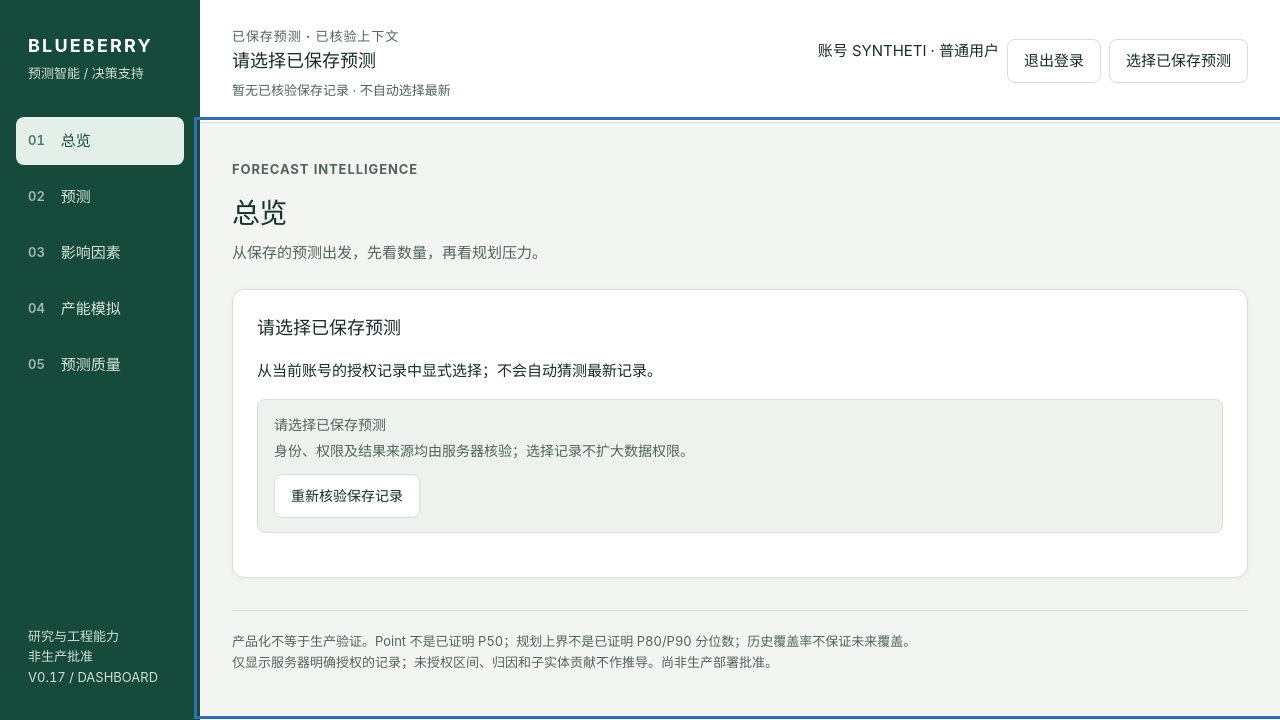
Test case: handoff projection mismatch never commits a record
Click the button "选择已保存预测" at (1178, 61), box [1109,39,1248,83]
(page scrolled)
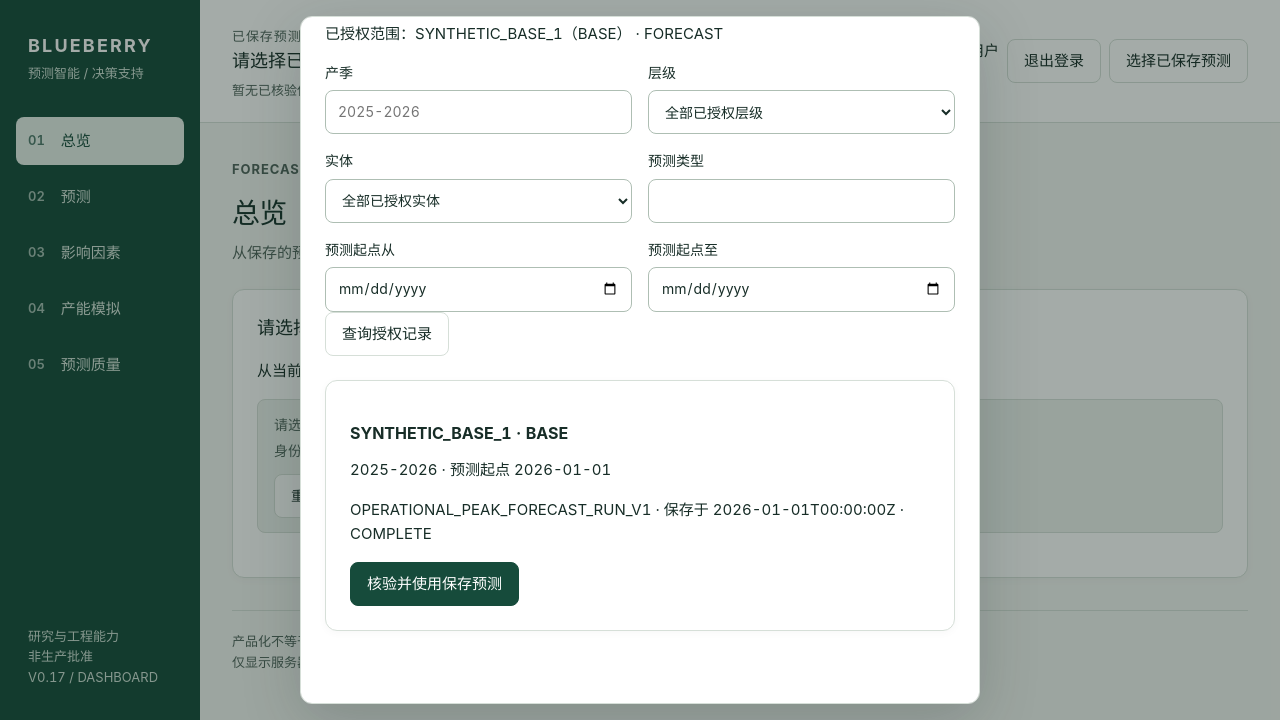
Click the button "核验并使用保存预测" at (434, 584), box [350,562,519,606]
(page scrolled)
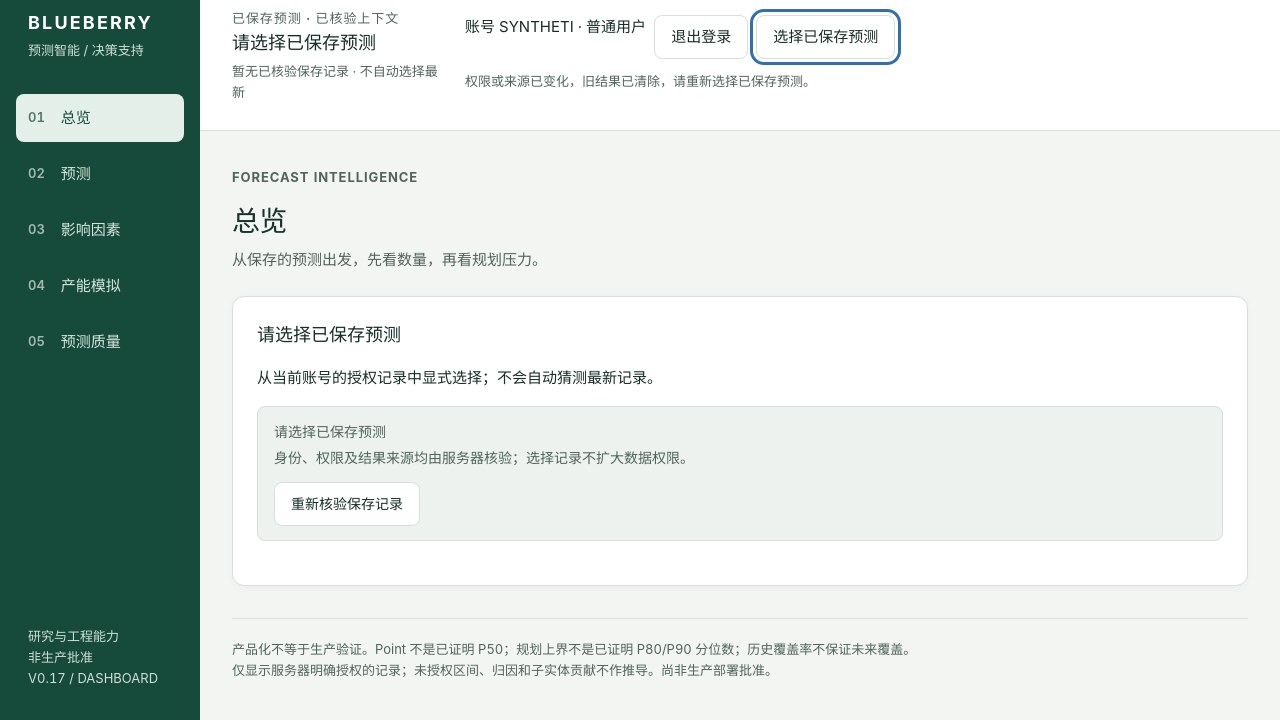
Expected: the text with class "d-context-title" reads "请选择已保存预测", [232,32,376,53]
Expected: the dialog is gone
